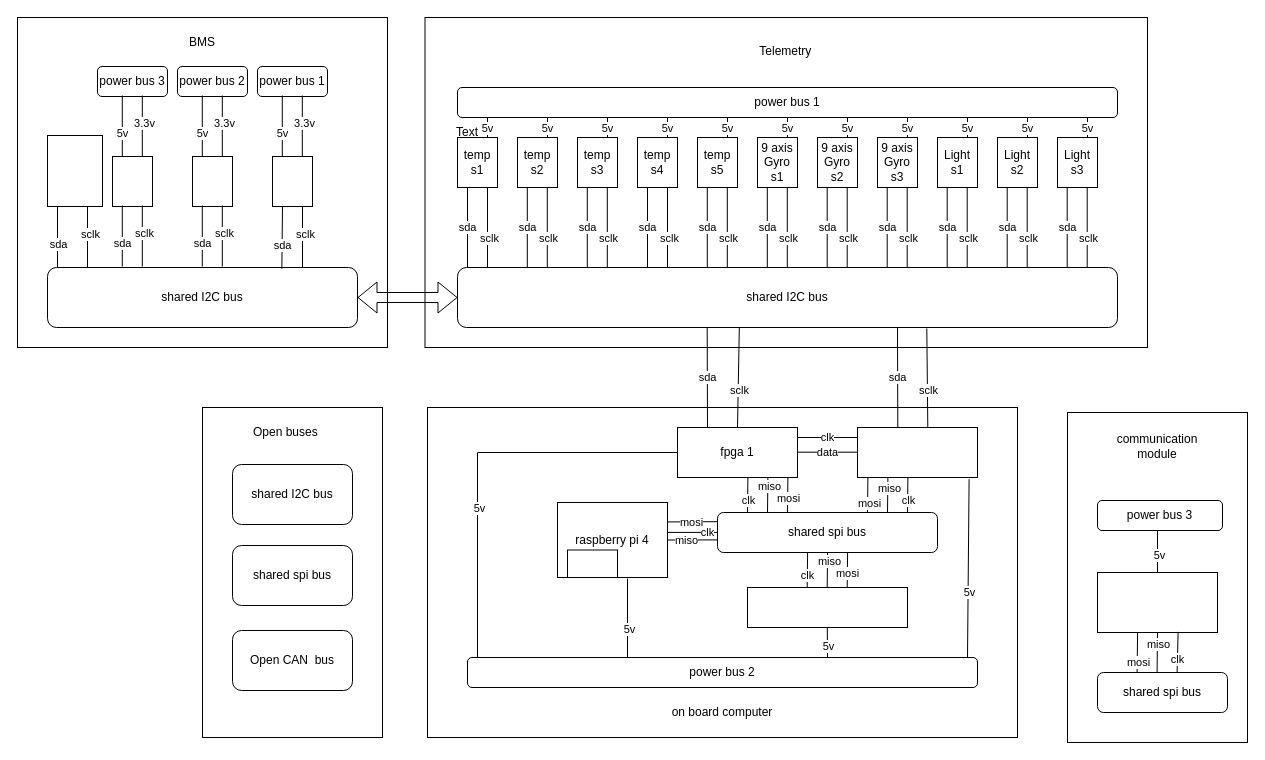
Some shapes in this 1265 by 760 pixel diagram are drawn without their labels. The centre of each missing label's shape, as x and y in pixels:
"charge / discharge controller" belongs at point 74,170.
"current s1" belongs at point 132,181.
"current s2" belongs at point 212,181.
"current s3" belongs at point 292,181.
"fpga 2" belongs at point 917,452.
"lora radio" belongs at point 1157,602.
"SD card" belongs at point 592,563.
"SD card (spi interface)" belongs at point 827,607.
